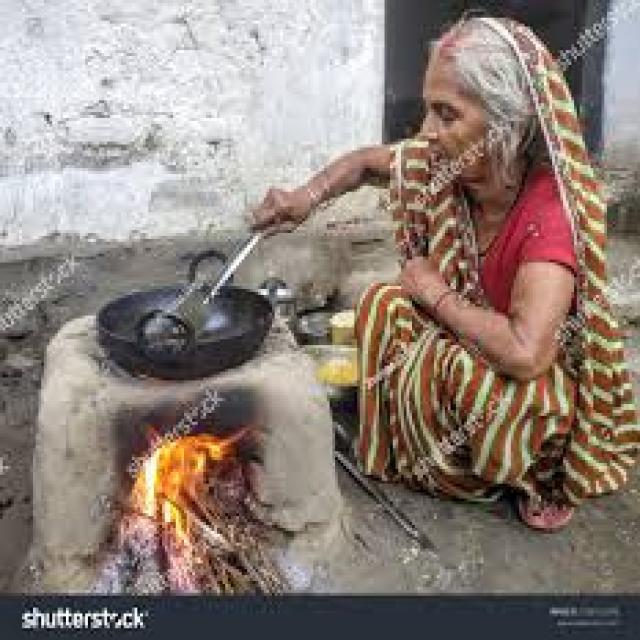fire: (119, 424, 253, 548)
